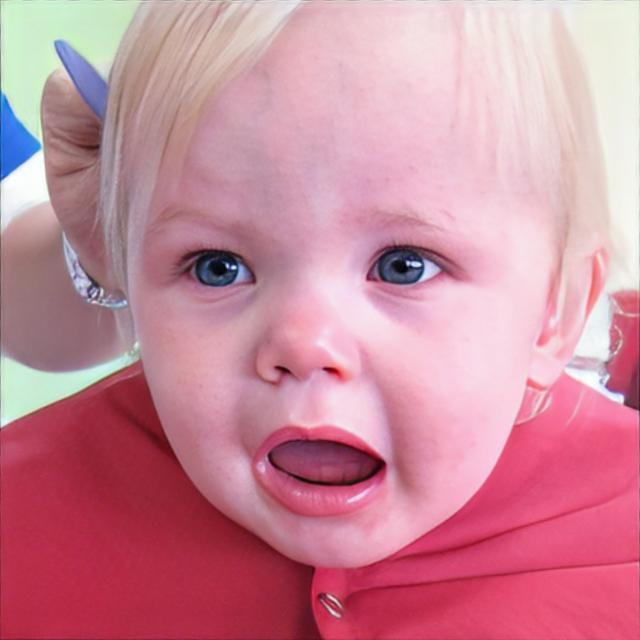sad: (124, 0, 550, 566)
